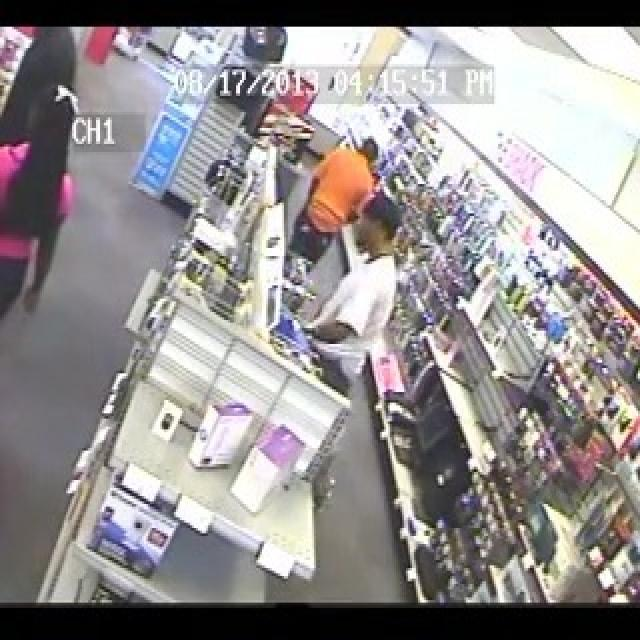normal: (0, 73, 87, 345), (299, 190, 404, 396), (279, 135, 390, 278)
